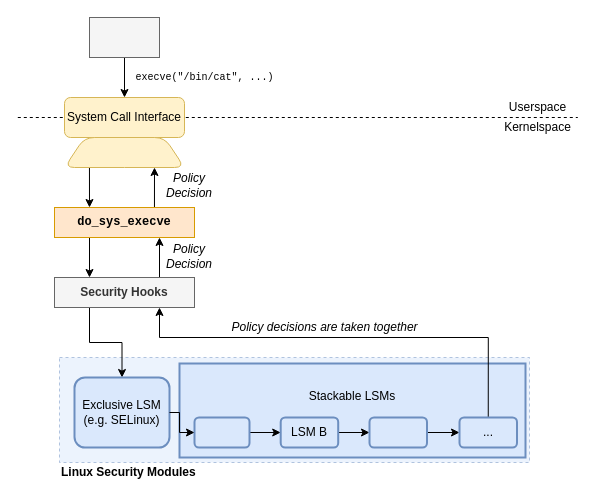
Image size: 596x500. Some labels were removed from this diagram. The box of each missing label's shape, as (x1, y1, x2, y2) in pixels:
/bin/bash: (88, 16, 160, 58)
Dispatcher: (64, 136, 184, 168)
LSM A: (193, 416, 250, 448)
LSM C: (368, 416, 428, 448)
